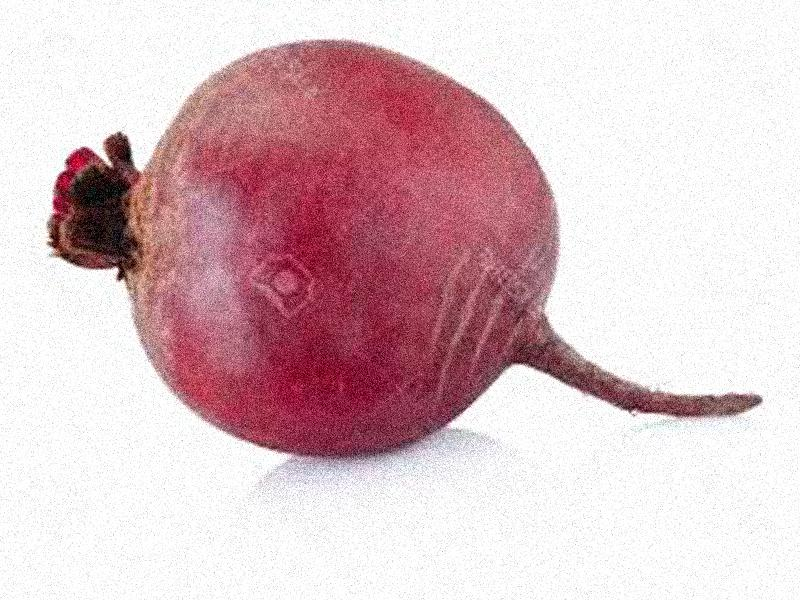Beet: (55, 43, 762, 456)
